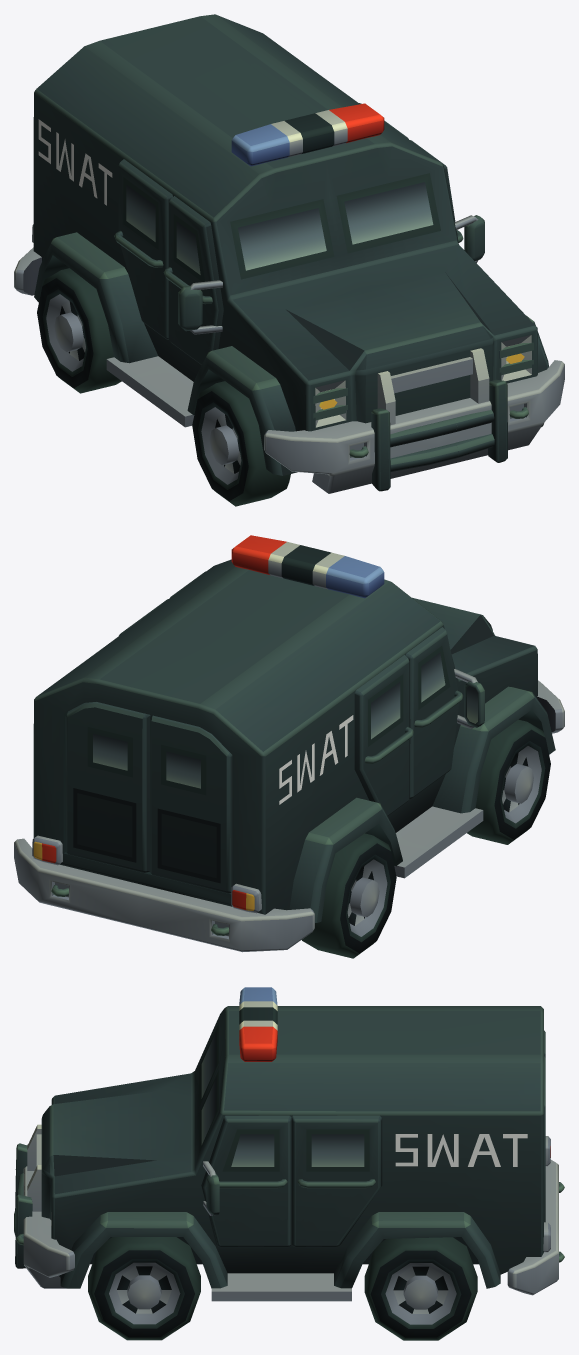
The model's file is van_SWAT.fbx.
The picture shows the model from 3 angles, top to bottom: view 1: azimuth 30°, elevation 25°; view 2: azimuth 150°, elevation 25°; view 3: azimuth 270°, elevation 25°; orthographic projection. The views are drawn at different scales.
Visible parts, largest first — view 1: van_SWAT, wheel_van_SWAT_front_right, wheel_van_SWAT_back; view 2: van_SWAT, door_van_SWAT_back_left, door_van_SWAT_back_right, wheel_van_SWAT_back, wheel_van_SWAT_front_right; view 3: van_SWAT, wheel_van_SWAT_front_left, wheel_van_SWAT_back.
Boxes of the visible parts, <box> form: van_SWAT: <box>14,14,564,493</box>; wheel_van_SWAT_front_right: <box>192,381,290,506</box>; wheel_van_SWAT_back: <box>37,268,121,393</box>; van_SWAT: <box>14,535,564,952</box>; door_van_SWAT_back_left: <box>65,702,150,872</box>; door_van_SWAT_back_right: <box>150,715,232,893</box>; wheel_van_SWAT_back: <box>302,833,396,958</box>; wheel_van_SWAT_front_right: <box>467,719,550,844</box>; van_SWAT: <box>14,987,564,1301</box>; wheel_van_SWAT_front_left: <box>88,1237,200,1340</box>; wheel_van_SWAT_back: <box>364,1237,477,1340</box>.
Bounding box in the file's own units: 356 × 316 × 600.
Materials: 1 (1 with a texture image).
